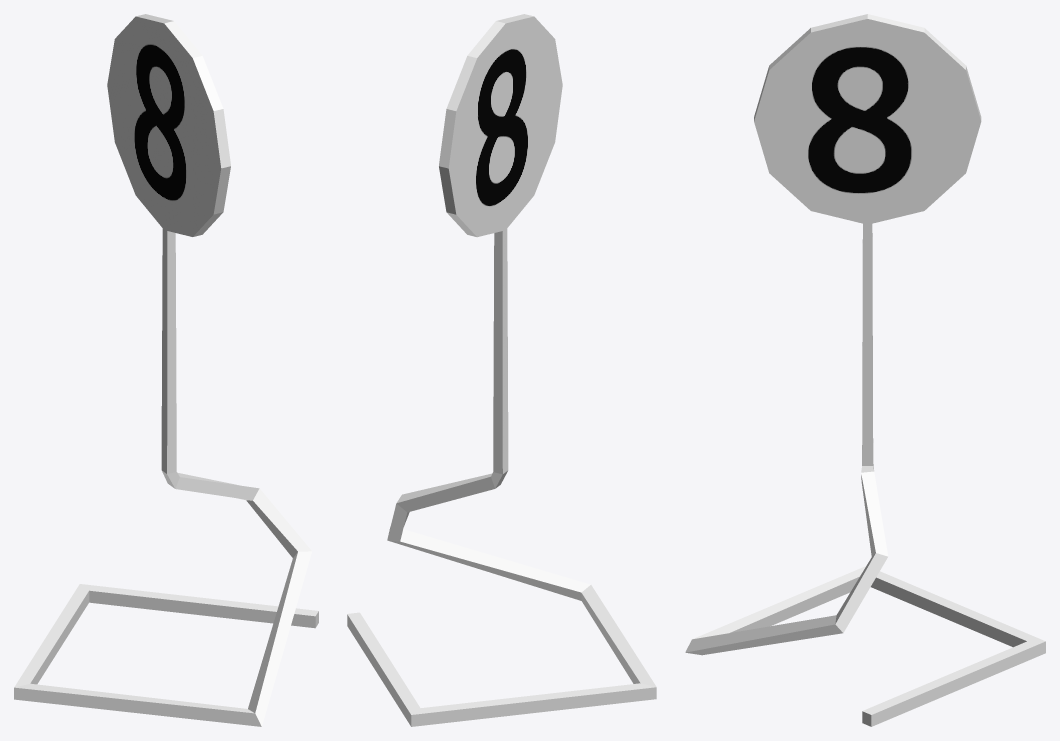
File: Marker_8.FBX
3 renders of one model, left to right at view 1: azimuth 30°, elevation 25°; view 2: azimuth 150°, elevation 25°; view 3: azimuth 270°, elevation 25°, orthographic.
Parts seen in each view (by area): view 1: Marker_8; view 2: Marker_8; view 3: Marker_8.
Part boxes in pixels (bbox=[...]): Marker_8: bbox=[14, 14, 318, 726]; Marker_8: bbox=[347, 14, 656, 726]; Marker_8: bbox=[685, 14, 1045, 726].
Bounding box in the file's own units: 4.03 × 8.02 × 4.11.
